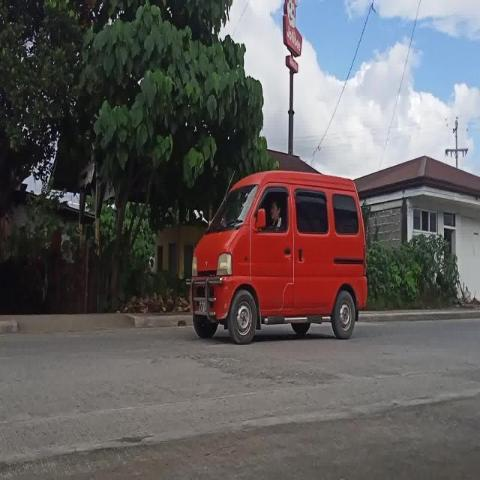van: (187, 164, 370, 352)
